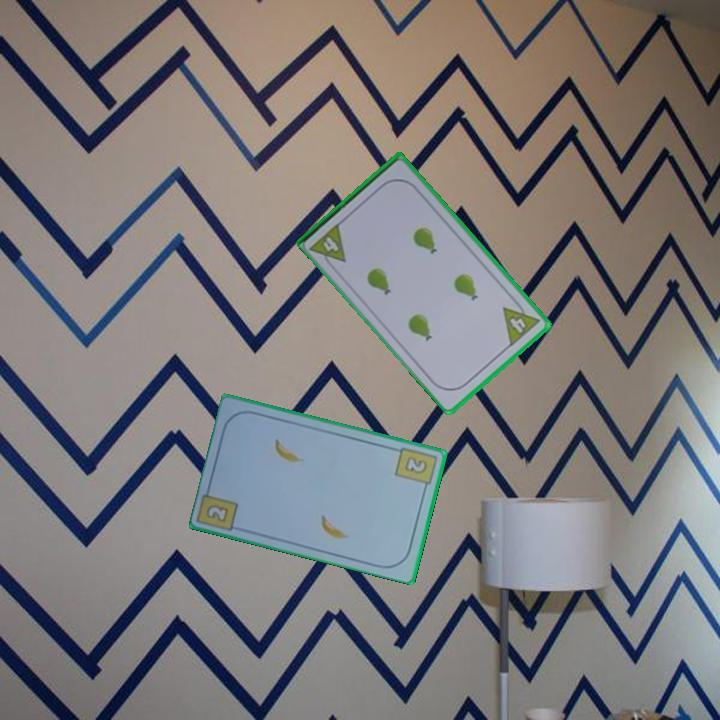2b: (391, 443, 439, 495), (203, 501, 232, 525)
4p: (499, 295, 543, 349), (307, 219, 349, 273)
